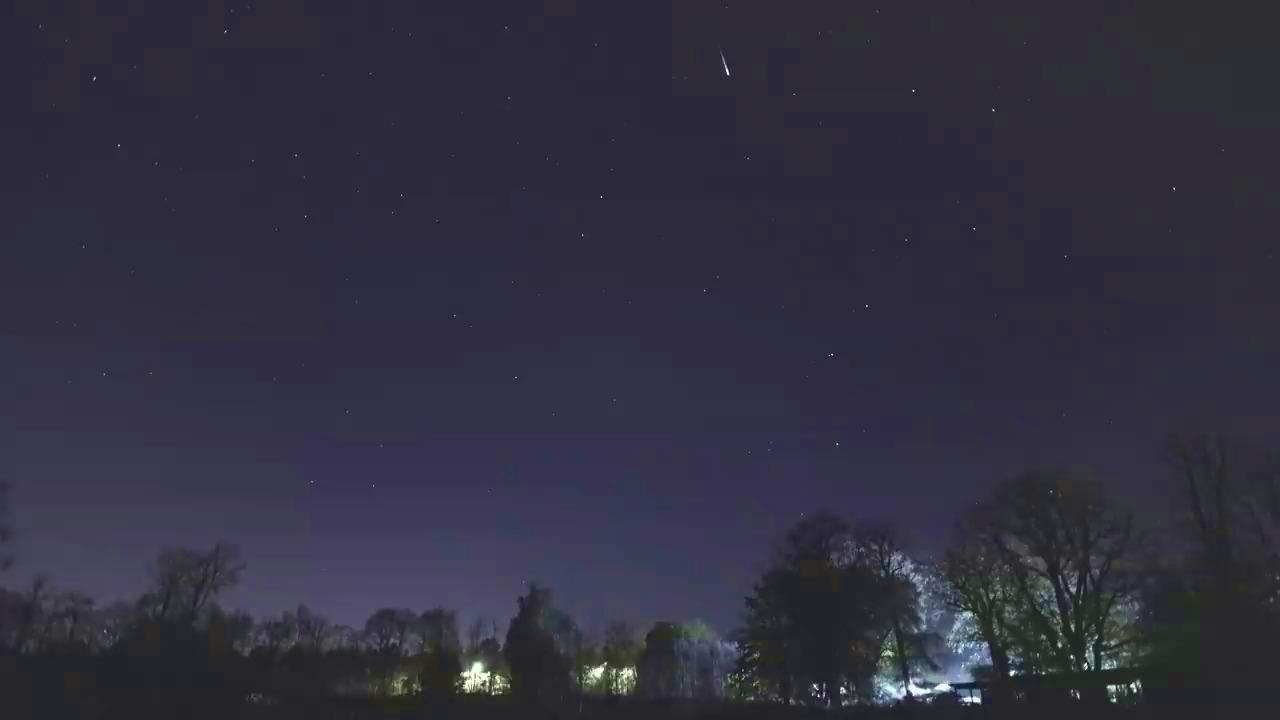meteorite: (671, 48, 772, 79)
